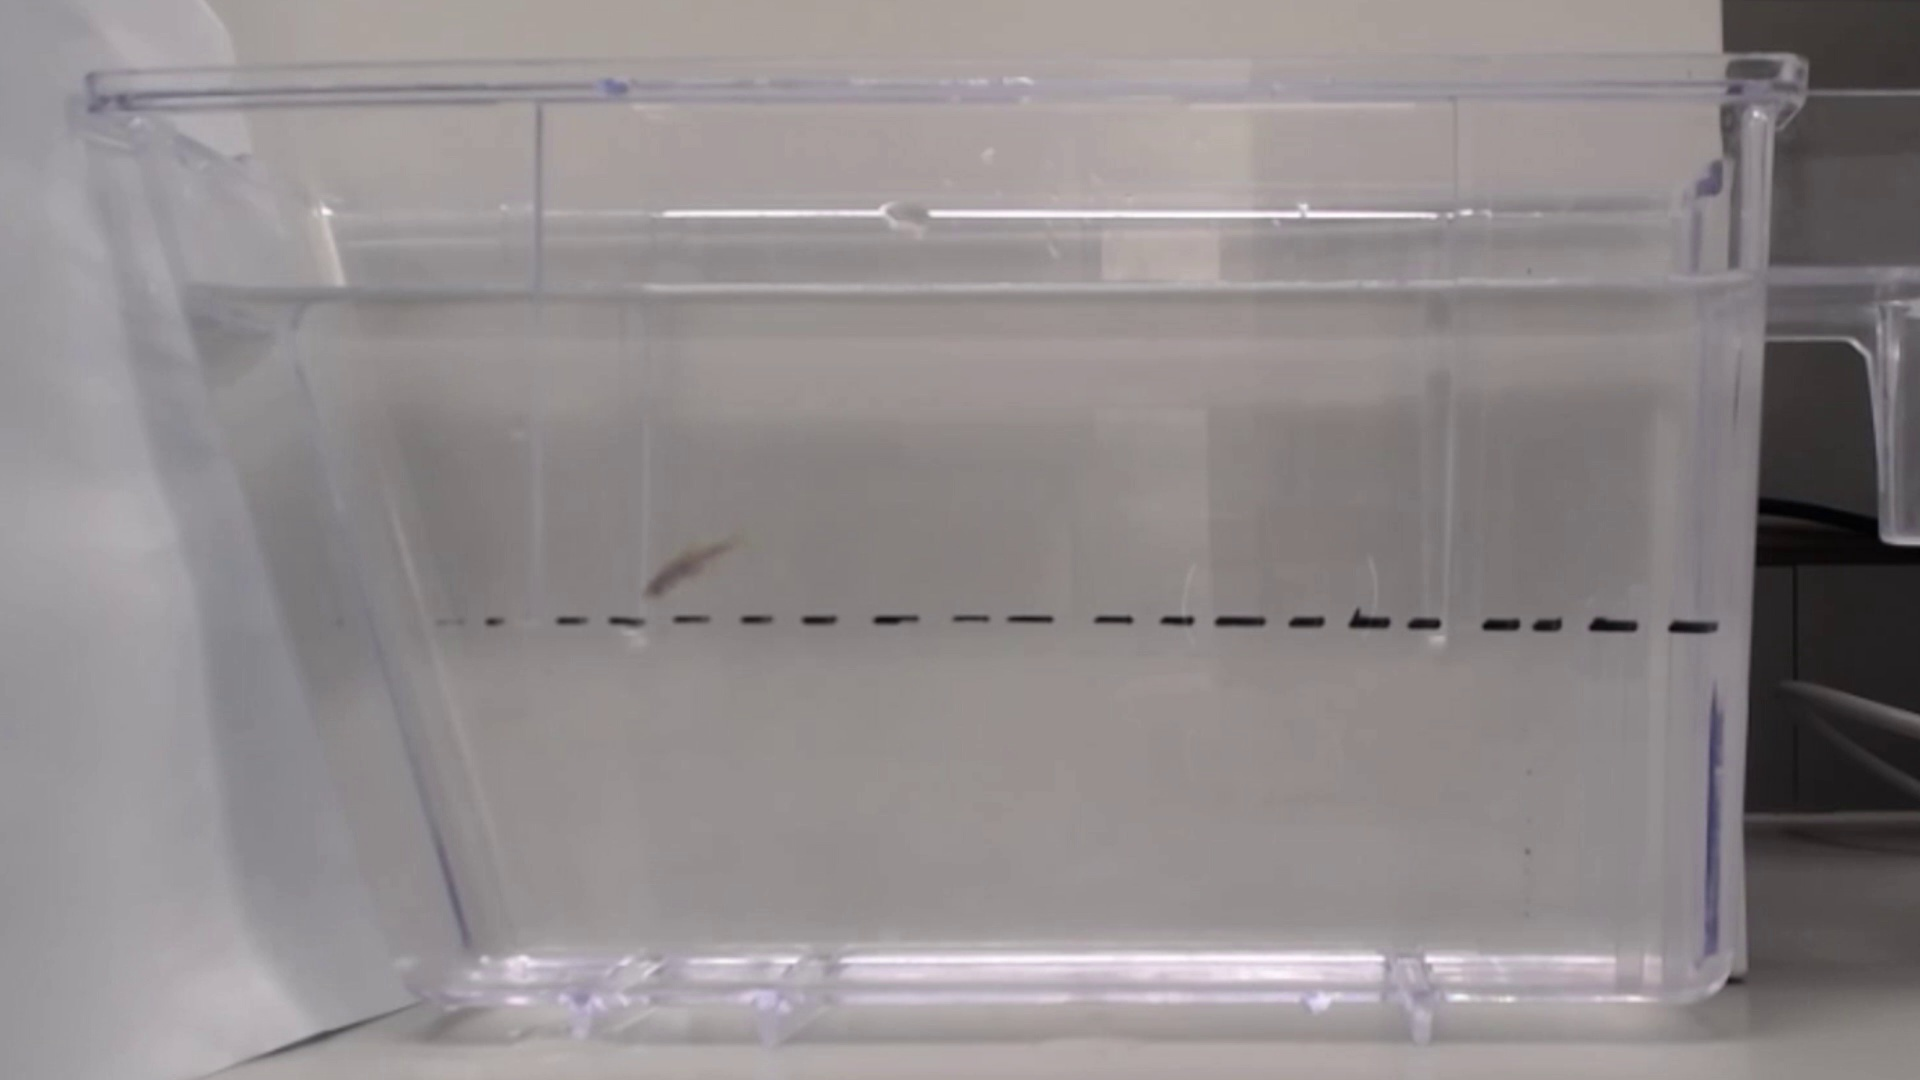blackline: (414, 601, 1729, 650)
zebrafish: (633, 517, 765, 605)
